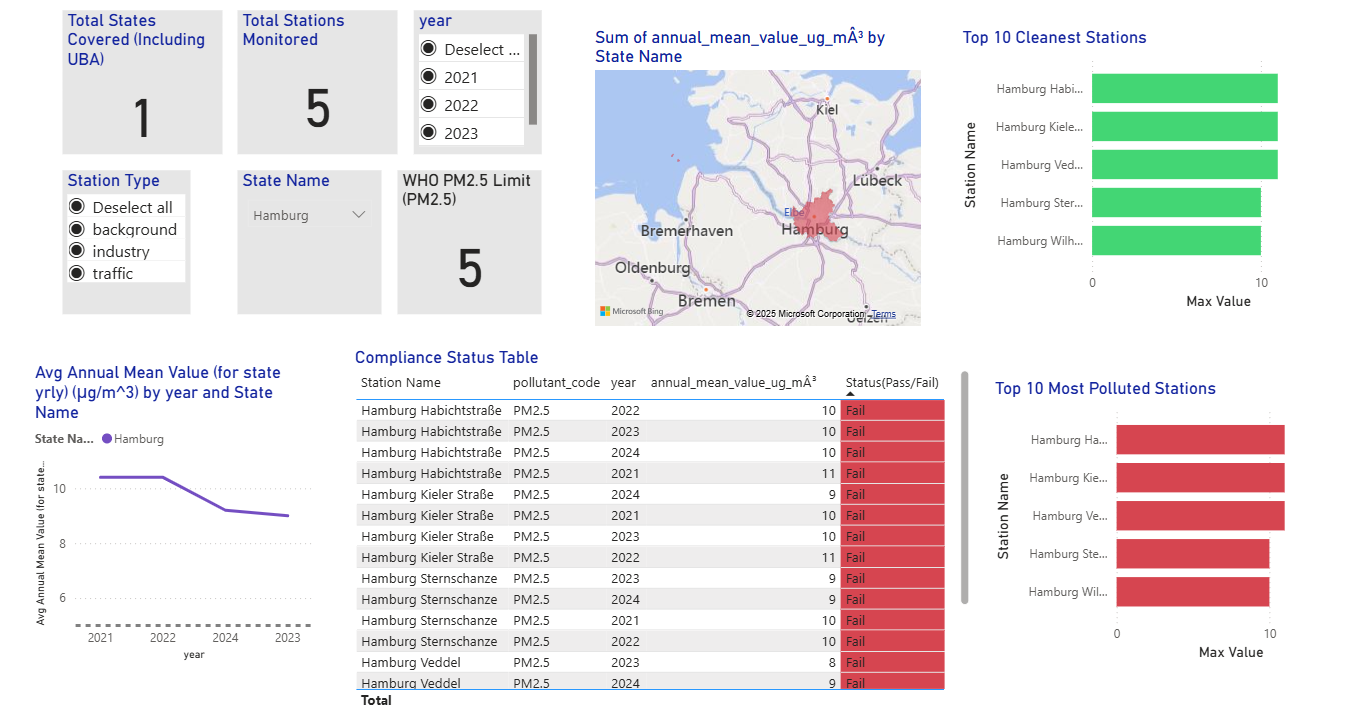

This screenshot's page, from the dashboard's own definition file:
{"tool":"powerbi","page":{"name":"Page 1","canvas":[2000,721],"ordinal":0},"visuals":[{"type":"card","title":"Total States Covered (Including UBA)","fields":{"Values":["States.Total States Covered"]},"box":[112,16,128,144],"z":0},{"type":"card","title":"Total Stations Monitored","fields":{"Values":["Stations.Total Stations Monitored"]},"box":[256,16,112,144],"z":1000},{"type":"filledMap","fields":{"Category":["States.State Name"]},"box":[592,32,384,304],"z":3000},{"type":"actionButton","box":[0,0,100,40],"z":4000},{"type":"tableEx","title":"Compliance Status Table","fields":{"Values":["Stations.Station Name","Air_Quality_Data.pollutant_code","Air_Quality_Data.year","Air_Quality_Data.annual_mean_value_ug_mÂ³","Air_Quality_Data.Status(Pass/Fail)"]},"box":[400,352,624,368],"z":5000},{"type":"lineChart","fields":{"Category":["Air_Quality_Data.year"],"Series":["States.State Name"],"Y":["Air_Quality_Data.Avg Annual Mean Value (for state yrly) (μg/m^3)"]},"box":[80,368,288,304],"z":6000},{"type":"clusteredBarChart","title":"Top 10 Most Polluted Stations","fields":{"Y":["Air_Quality_Data.Max Value"],"Category":["Stations.Station Name"]},"box":[1056,416,368,304],"z":7000},{"type":"clusteredBarChart","title":"Top 10 Cleanest Stations","fields":{"Y":["Air_Quality_Data.Max Value"],"Category":["Stations.Station Name"]},"box":[1008,32,400,288],"z":8000},{"type":"listSlicer","fields":{"Values":["Air_Quality_Data.year"]},"box":[384,16,128,144],"z":9000},{"type":"listSlicer","fields":{"Values":["Stations.Station Type"]},"box":[112,176,128,144],"z":10000},{"type":"slicer","title":"State Name","fields":{"Values":["States.State Name"]},"box":[256,176,144,144],"z":11000},{"type":"card","title":"WHO PM2.5 Limit (PM2.5)","fields":{"Values":["Air_Quality_Data.PM2.5_Limit_WHO_2021 for Pass"]},"box":[416,176,112,144],"z":11001},{"type":"slicer","title":"WHO Status","fields":{"Values":["Air_Quality_Data.Status(Pass/Fail)"]},"box":[1632,224,112,144],"z":11002}]}

Visuals, with their boxes on the page's 2000x721 design canvas (x1, y1, x2, y2). These are canvas units, not pixel positions in the 1345x714 screenshot, which may show the page scaled, cropped or inside an application window:
"Total States Covered (Including UBA)" card: <region>112, 16, 240, 160</region>
"Total Stations Monitored" card: <region>256, 16, 368, 160</region>
filledMap - States.State Name: <region>592, 32, 976, 336</region>
actionButton: <region>0, 0, 100, 40</region>
"Compliance Status Table" tableEx: <region>400, 352, 1024, 720</region>
lineChart - Air_Quality_Data.year x States.State Name: <region>80, 368, 368, 672</region>
"Top 10 Most Polluted Stations" clusteredBarChart: <region>1056, 416, 1424, 720</region>
"Top 10 Cleanest Stations" clusteredBarChart: <region>1008, 32, 1408, 320</region>
listSlicer - Air_Quality_Data.year: <region>384, 16, 512, 160</region>
listSlicer - Stations.Station Type: <region>112, 176, 240, 320</region>
"State Name" slicer: <region>256, 176, 400, 320</region>
"WHO PM2.5 Limit (PM2.5)" card: <region>416, 176, 528, 320</region>
"WHO Status" slicer: <region>1632, 224, 1744, 368</region>
